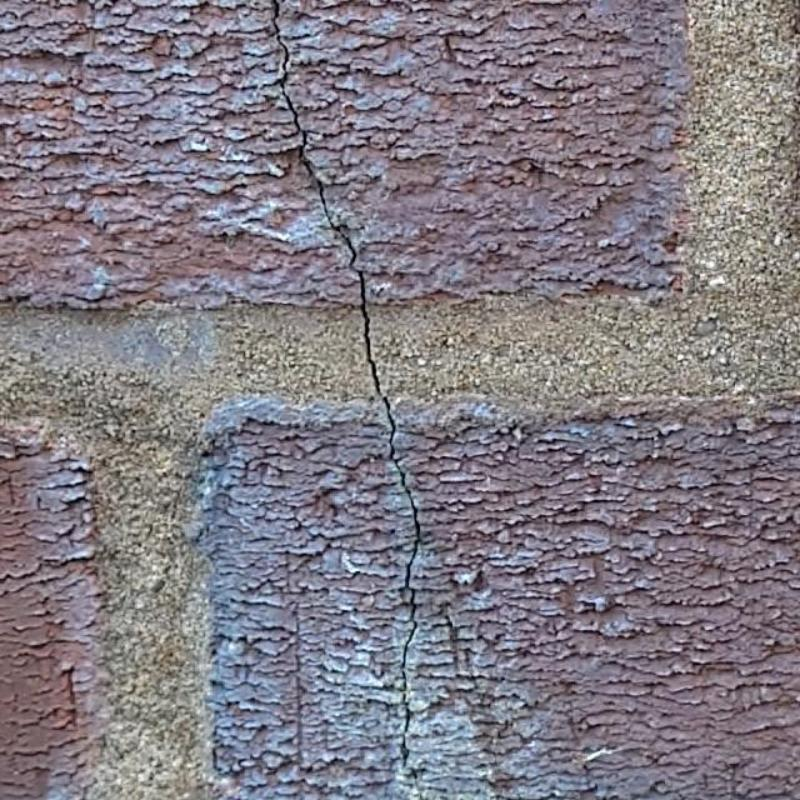pothole: (271, 0, 382, 396), (383, 398, 421, 767)
